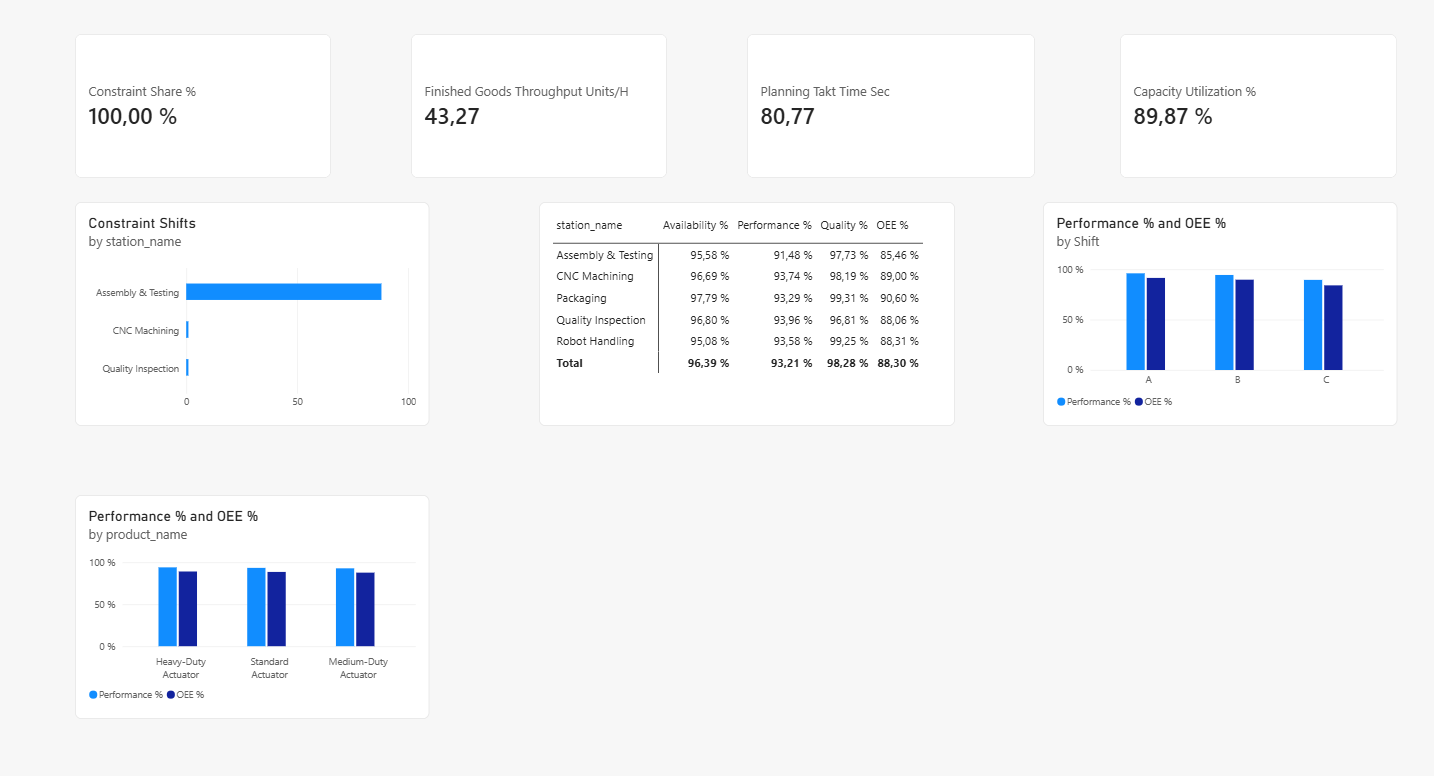

Layout of this report page (visuals, bound fields, positions):
{"tool":"powerbi","page":{"name":"Bottleneck & Performance","canvas":[1920,1080],"ordinal":3},"visuals":[{"type":"barChart","fields":{"Category":["DimConstraintMachine.station_name"],"Y":["FactLinePerformance.Constraint Shifts"]},"box":[100,260,443.3,280],"z":0},{"type":"pivotTable","fields":{"Rows":["DimMachine.station_name"],"Values":["FactProduction.Availability %","FactProduction.Performance %","FactProduction.Quality %","FactProduction.OEE %"]},"box":[680,260,520,280],"z":1000},{"type":"clusteredColumnChart","fields":{"Category":["DimShift.Shift"],"Y":["FactProduction.Performance %","FactProduction.OEE %"]},"box":[1310,260,443,280],"z":2000},{"type":"clusteredColumnChart","fields":{"Category":["DimProduct.product_name"],"Y":["FactProduction.Performance %","FactProduction.OEE %"]},"box":[100,626.7,443,280],"z":3000},{"type":"cardVisual","fields":{"Data":["FactLinePerformance.Constraint Share %"]},"box":[100,50,320,180],"z":4000},{"type":"cardVisual","fields":{"Data":["FactLinePerformance.Finished Goods Throughput Units/H"]},"box":[520,50,320,180],"z":5000},{"type":"cardVisual","fields":{"Data":["FactLinePerformance.Planning Takt Time Sec"]},"box":[940,50,360,180],"z":6000},{"type":"cardVisual","fields":{"Data":["FactProduction.Capacity Utilization %"]},"box":[1406.7,50,443,180],"z":7000}]}

Visuals, with their boxes on the page's 1920x1080 design canvas (x1, y1, x2, y2). These are canvas units, not pixel positions in the 1434x776 screenshot, which may show the page scaled, cropped or inside an application window:
barChart - DimConstraintMachine.station_name x FactLinePerformance.Constraint Shifts: {"x1": 100, "y1": 260, "x2": 543, "y2": 540}
pivotTable - DimMachine.station_name x FactProduction.Availability %: {"x1": 680, "y1": 260, "x2": 1200, "y2": 540}
clusteredColumnChart - DimShift.Shift x FactProduction.Performance %: {"x1": 1310, "y1": 260, "x2": 1753, "y2": 540}
clusteredColumnChart - DimProduct.product_name x FactProduction.Performance %: {"x1": 100, "y1": 627, "x2": 543, "y2": 907}
cardVisual - FactLinePerformance.Constraint Share %: {"x1": 100, "y1": 50, "x2": 420, "y2": 230}
cardVisual - FactLinePerformance.Finished Goods Throughput Units/H: {"x1": 520, "y1": 50, "x2": 840, "y2": 230}
cardVisual - FactLinePerformance.Planning Takt Time Sec: {"x1": 940, "y1": 50, "x2": 1300, "y2": 230}
cardVisual - FactProduction.Capacity Utilization %: {"x1": 1407, "y1": 50, "x2": 1850, "y2": 230}
